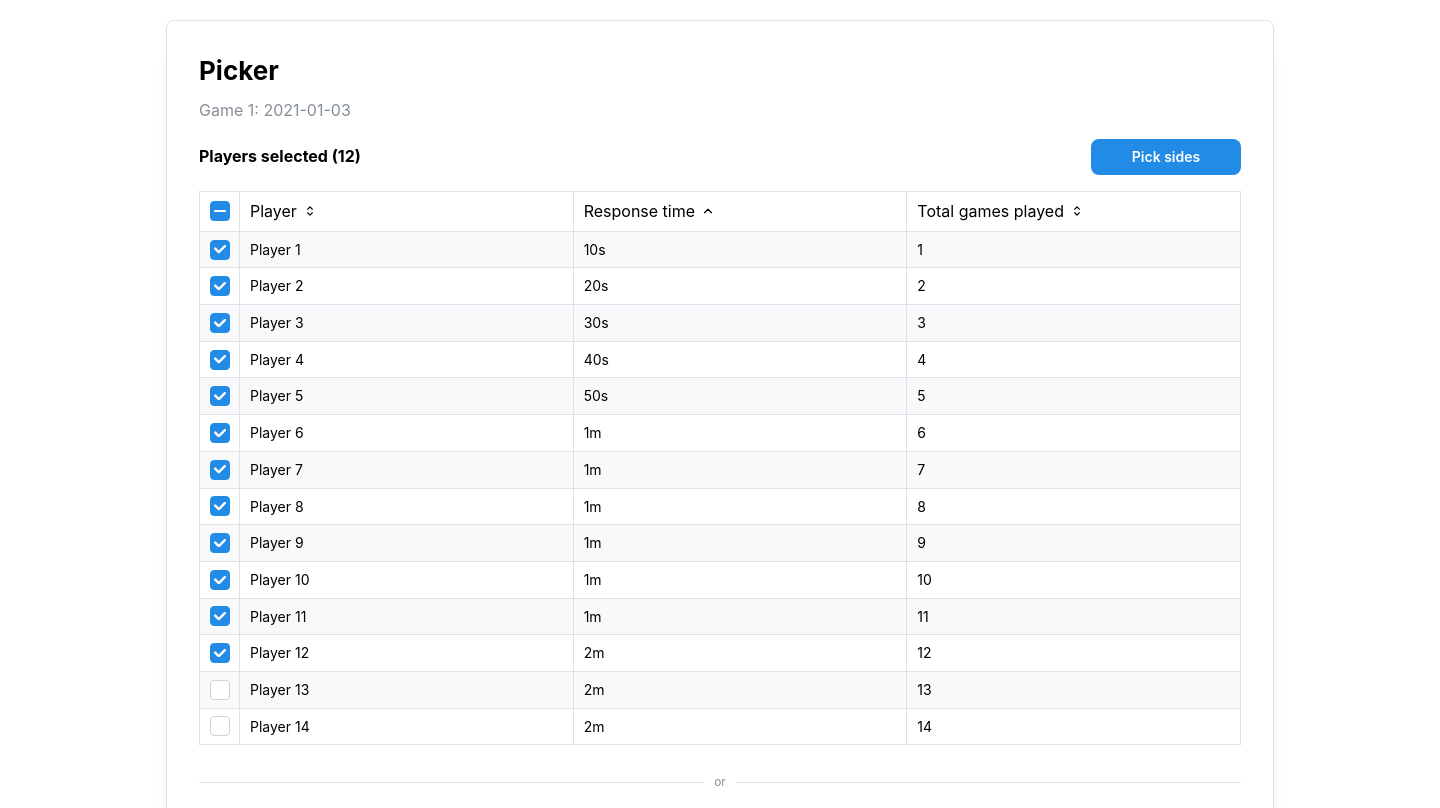
Scenario: PickerForm › selects all players when select-all is clicked while some are unselected
Expected: the checkbox named "Select Player 13" is not checked, [210, 680, 230, 700]
Expected: the checkbox named "Select Player 14" is not checked, [210, 716, 230, 736]
Click the checkbox named "Select all players".
click(220, 211)  # box [210, 201, 230, 221]
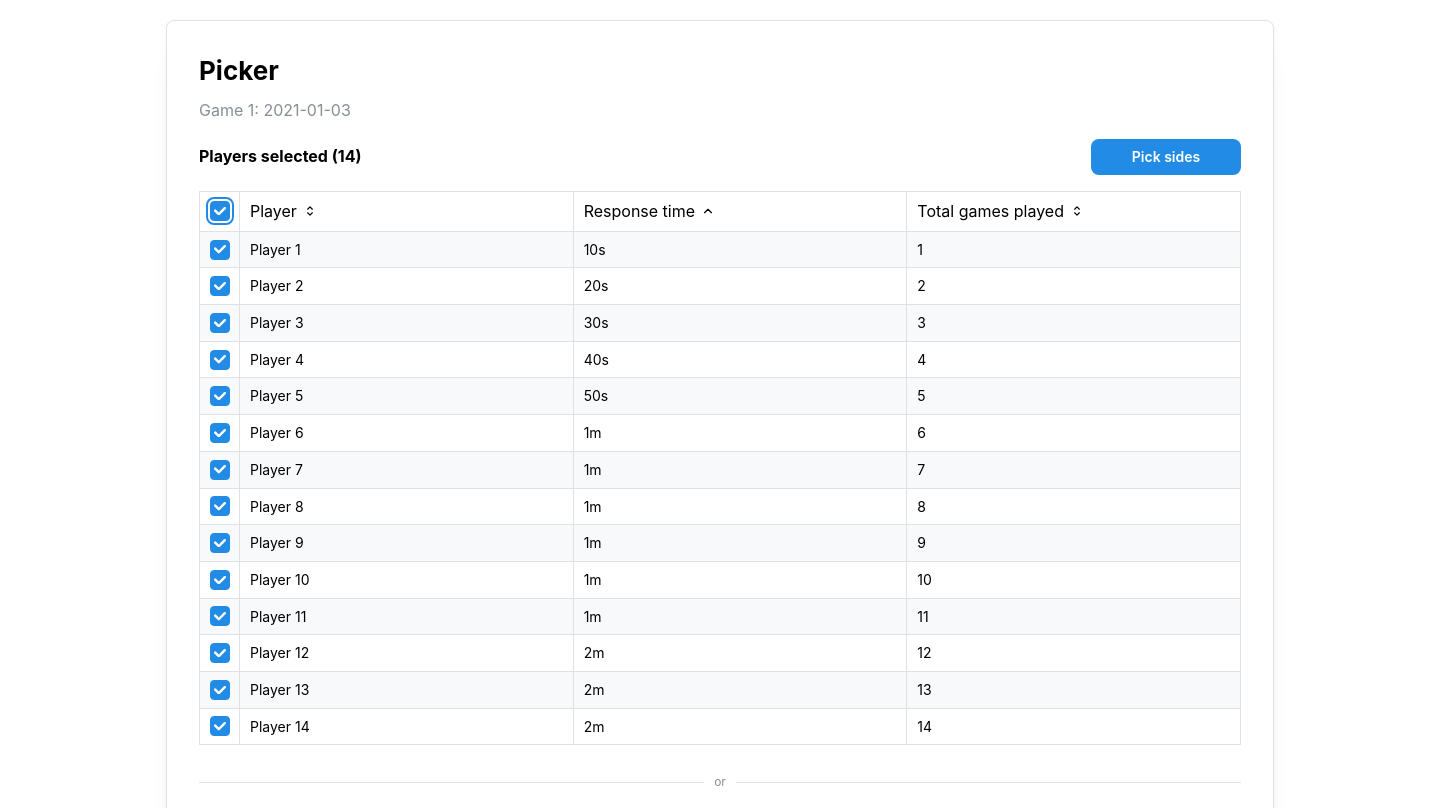
Now the checkbox named "Select Player 13" is checked, box [210, 680, 230, 700]
Now the checkbox named "Select Player 14" is checked, box [210, 716, 230, 736]
